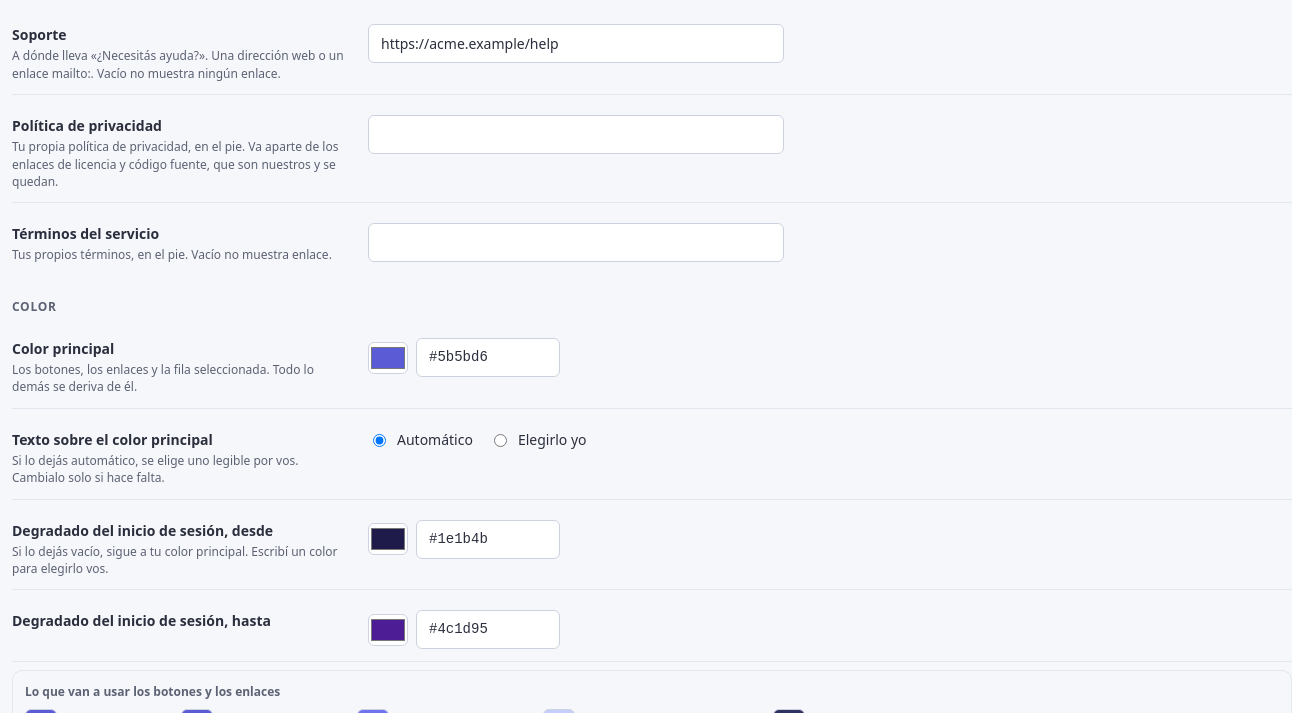
Test case: the colour picker, and the preview that must not escape its box › refuses a value that is not a hex, at the field, with no request
This screenshot has width=1292, height=713.
(page scrolled)
Type "rebeccapurple" into the field named "Color principal, en hexadecimal" at (488, 358), box x1=416 y1=338 x2=560 y2=377
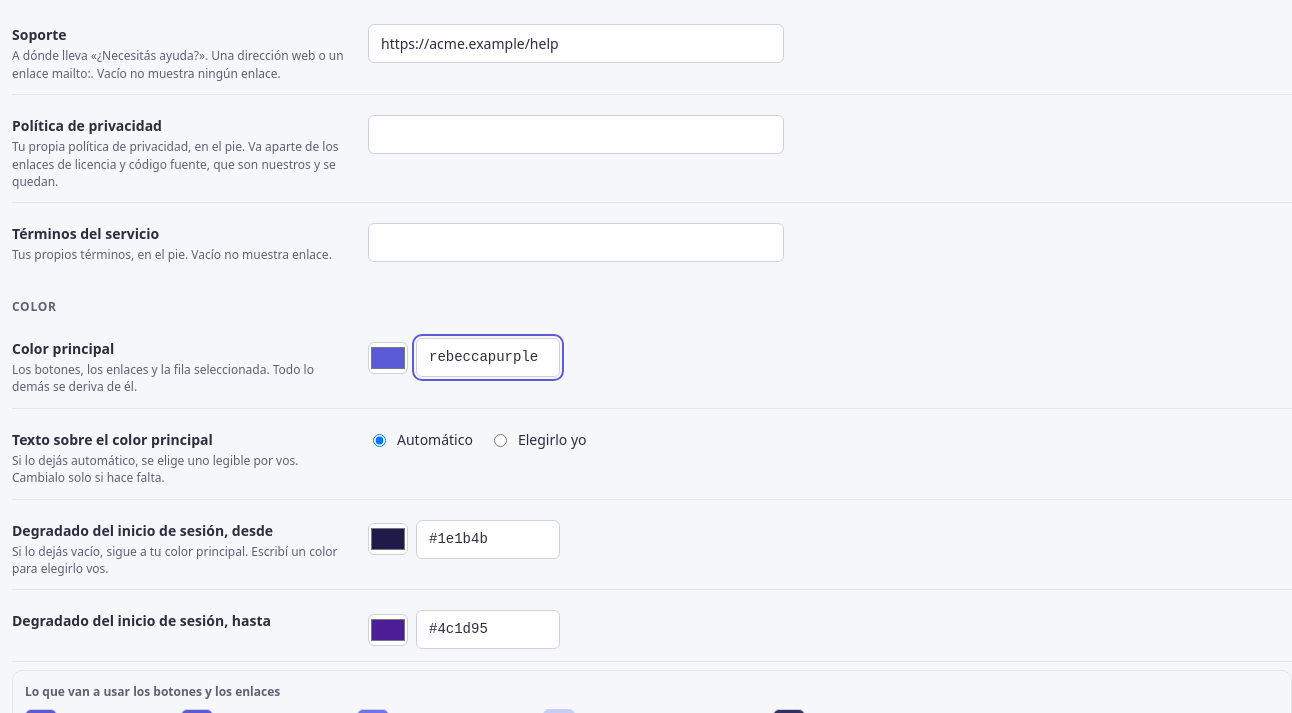
Press Tab
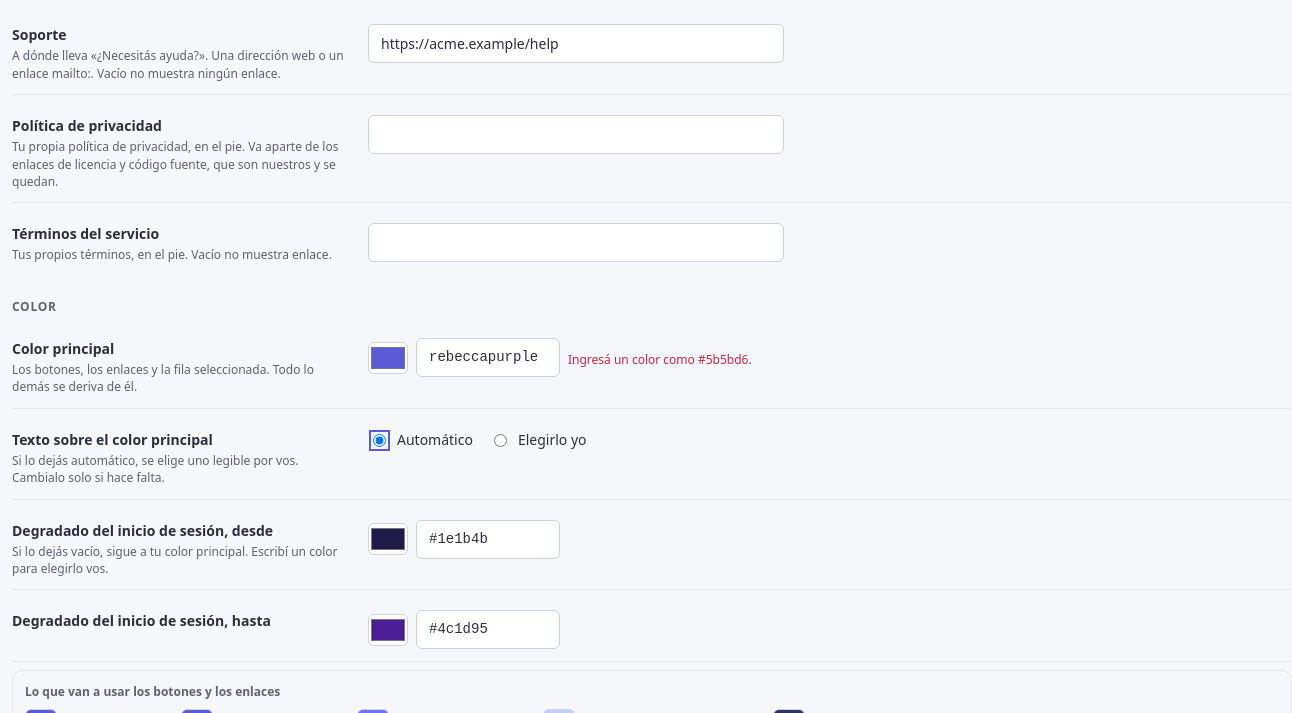
Expected: the message shows "#5b5bd6", x1=568 y1=351 x2=752 y2=368
